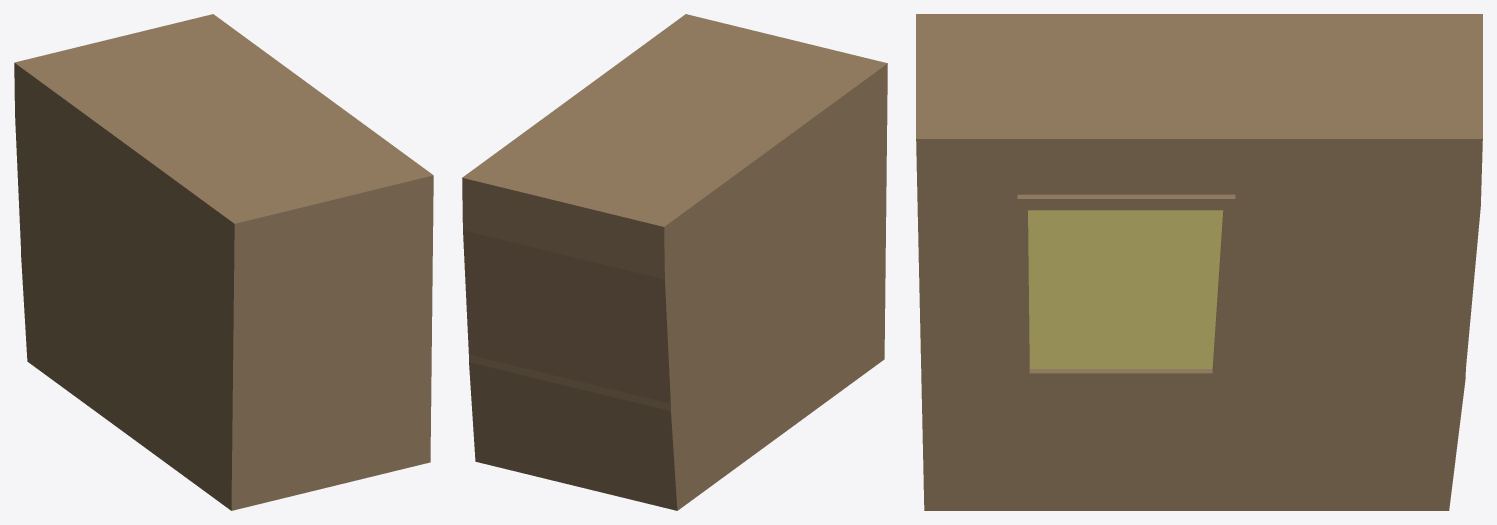
The model's file is M450_m_house01_ver3.fbx.
3 renders of one model, left to right at view 1: azimuth 30°, elevation 25°; view 2: azimuth 150°, elevation 25°; view 3: azimuth 270°, elevation 25°, orthographic. The views are drawn at different scales.
Parts seen in each view (by area): view 1: Cube; view 2: Cube; view 3: Cube.
Part boxes in pixels (box(x1,y1,x2,y2)): Cube: box(14, 14, 433, 510); Cube: box(462, 14, 887, 510); Cube: box(916, 14, 1482, 510).
Size of the model in its own units: 576 by 310 by 417.
